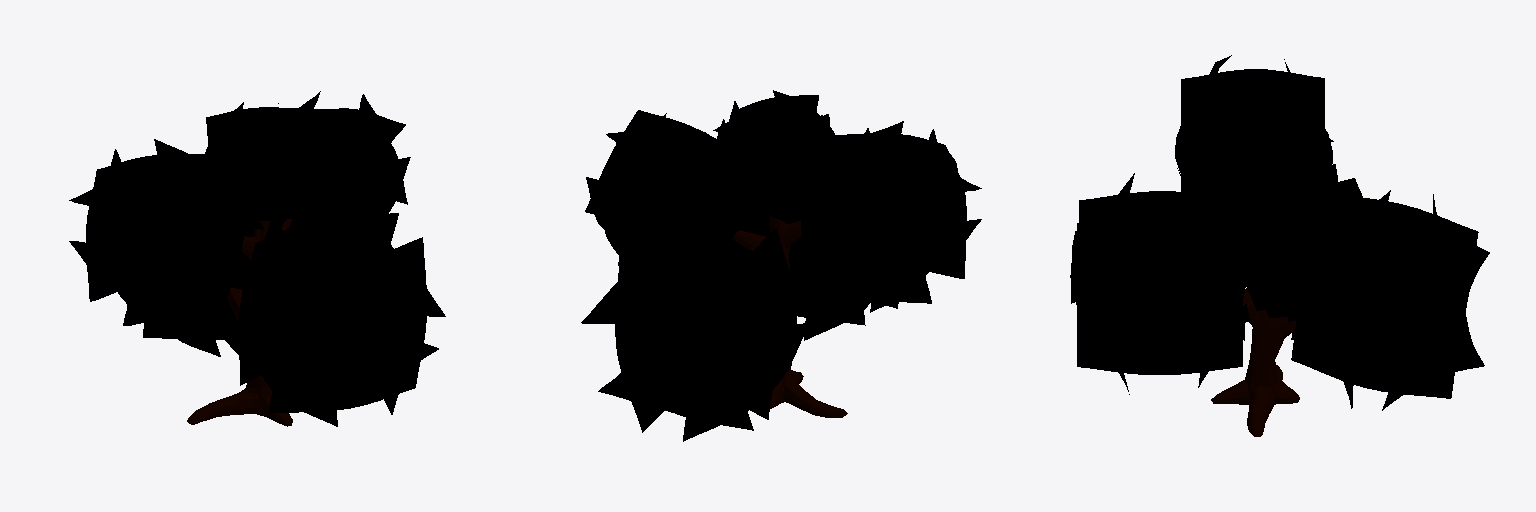
Rendered from Bush.obj.
3 renders of one model, left to right at view 1: azimuth 30°, elevation 25°; view 2: azimuth 150°, elevation 25°; view 3: azimuth 270°, elevation 25°, orthographic.
Parts seen in each view (by area): view 1: pPlane17, pPlane31, pPlane15, pPlane20, pPlane44, pPlane32, pPlane29, pPlane37, pPlane18, pCube1, pPlane36, pPlane30 (+10 smaller); view 2: pPlane30, pPlane24, pPlane22, pPlane25, pPlane39, pPlane32, pPlane29, pPlane45, pPlane35, pPlane42, pCube1, pPlane37 (+11 smaller); view 3: pPlane16, pPlane23, pPlane35, pPlane25, pPlane36, pCube1, pPlane20, pPlane43, pPlane37, pPlane18, pPlane22, pPlane28 (+13 smaller).
Boxes of the visible parts, <box> form: pPlane17: <box>268,237,426,413</box>; pPlane31: <box>122,166,244,325</box>; pPlane15: <box>245,220,355,426</box>; pPlane20: <box>238,236,445,347</box>; pPlane44: <box>209,127,305,220</box>; pPlane32: <box>69,160,264,260</box>; pPlane29: <box>94,149,188,330</box>; pPlane37: <box>302,108,405,194</box>; pPlane18: <box>239,213,398,385</box>; pCube1: <box>187,219,292,426</box>; pPlane36: <box>309,94,397,214</box>; pPlane30: <box>86,154,208,301</box>; pPlane30: <box>801,149,931,303</box>; pPlane24: <box>667,228,796,441</box>; pPlane22: <box>618,241,753,430</box>; pPlane25: <box>581,242,810,357</box>; pPlane39: <box>618,147,742,265</box>; pPlane32: <box>786,140,981,232</box>; pPlane29: <box>864,129,955,312</box>; pPlane45: <box>722,101,786,222</box>; pPlane35: <box>601,113,685,254</box>; pPlane42: <box>739,114,831,211</box>; pCube1: <box>733,216,847,417</box>; pPlane37: <box>606,125,741,200</box>; pPlane16: <box>1077,223,1242,374</box>; pPlane23: <box>1291,246,1475,398</box>; pPlane35: <box>1258,178,1381,321</box>; pPlane25: <box>1373,212,1489,332</box>; pPlane36: <box>1240,188,1330,317</box>; pCube1: <box>1211,288,1299,436</box>; pPlane20: <box>1071,201,1236,303</box>; pPlane43: <box>1209,102,1294,198</box>; pPlane37: <box>1209,178,1382,243</box>; pPlane18: <box>1177,168,1245,387</box>; pPlane22: <box>1382,194,1467,410</box>; pPlane28: <box>1181,93,1324,196</box>.
Size of the model in its own units: 14.66 by 12.3 by 15.83.